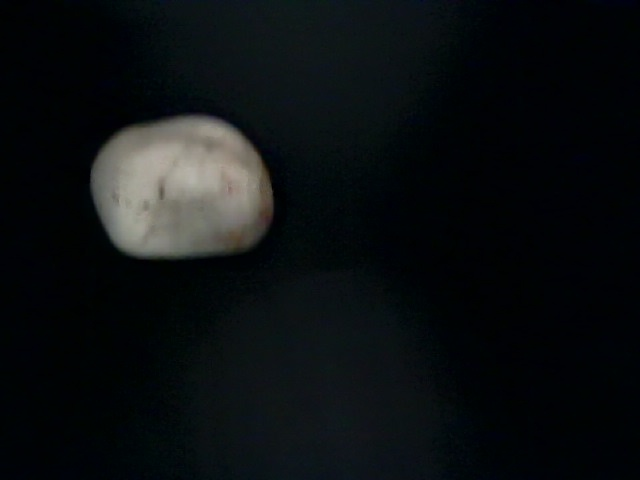QTLJ: (460, 112, 640, 429)
